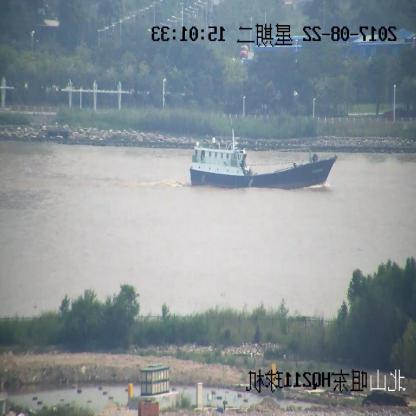Fishing Boat: (189, 130, 336, 189)
